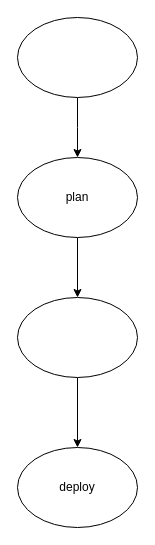
Image size: 155x545. Some labels were removed from this diagram. Each missing label, with the box of its shape:
start: (16, 16, 138, 98)
test: (16, 296, 138, 378)
